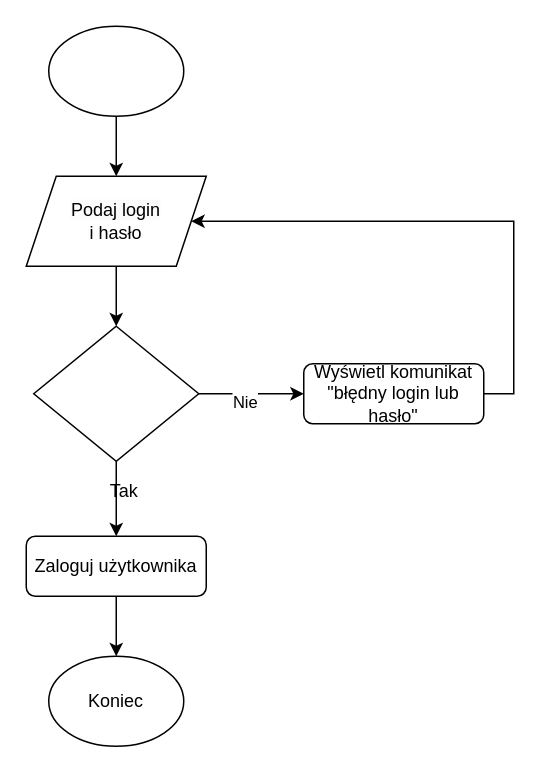
This 552x773 diagram has some shape labels left out. The centre of each missing label's shape, as x and y in pixels:
"Czy login lub hasło są poprawne?" belongs at point 115,393.
"Start" belongs at point 115,70.
